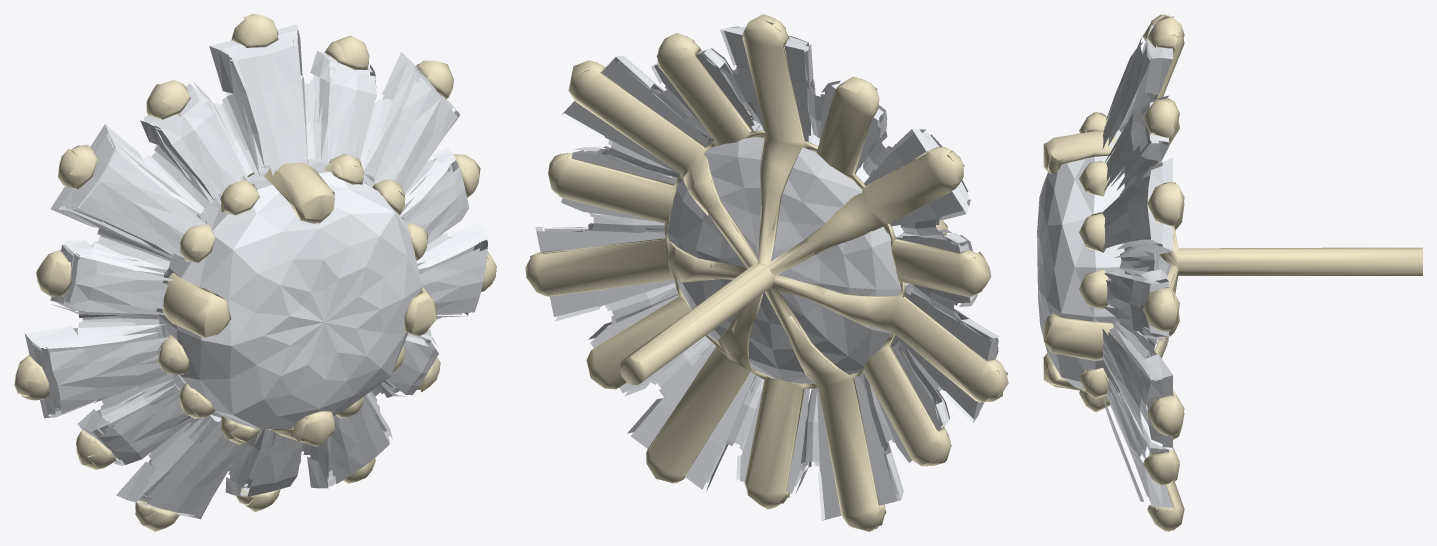
Rendered from stud.glb.
3 renders of one model, left to right at view 1: azimuth 30°, elevation 25°; view 2: azimuth 150°, elevation 25°; view 3: azimuth 270°, elevation 25°, orthographic. The views are drawn at different scales.
Visible parts, largest first — view 1: Object_3, Object_2, Object_4; view 2: Object_4, Object_3, Object_2; view 3: Object_4, Object_3, Object_2.
Part boxes in pixels (left/top/right/bottom): Object_3: left=24, top=24, right=488, bottom=519; Object_2: left=158, top=162, right=422, bottom=428; Object_4: left=14, top=14, right=496, bottom=531; Object_4: left=525, top=14, right=1008, bottom=531; Object_3: left=535, top=26, right=998, bottom=520; Object_2: left=667, top=121, right=915, bottom=383; Object_4: left=1043, top=14, right=1422, bottom=531; Object_3: left=1102, top=24, right=1172, bottom=507; Object_2: left=1037, top=132, right=1171, bottom=393.
Bounding box in the file's own units: 1.02 × 0.9999 × 0.7463.
